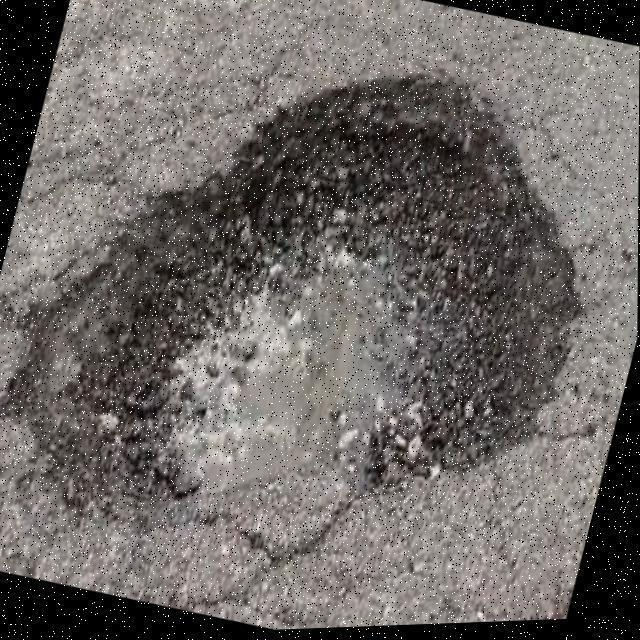Pothole: (12, 67, 592, 566)
